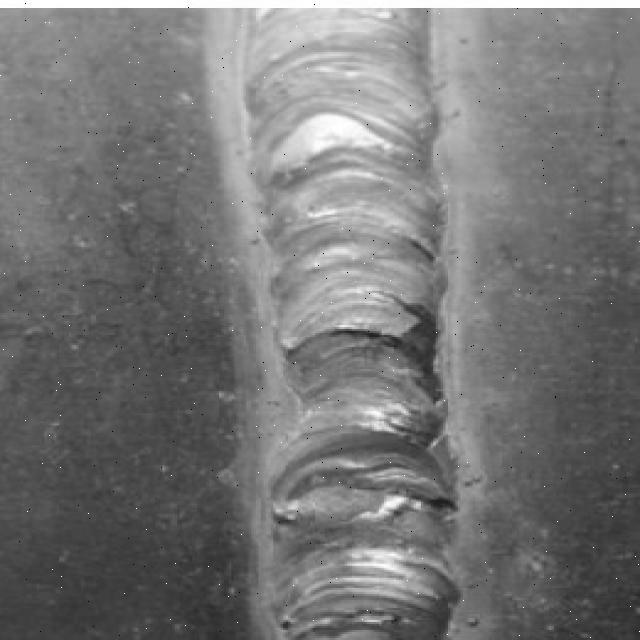Bad Welding: (232, 26, 488, 640)
